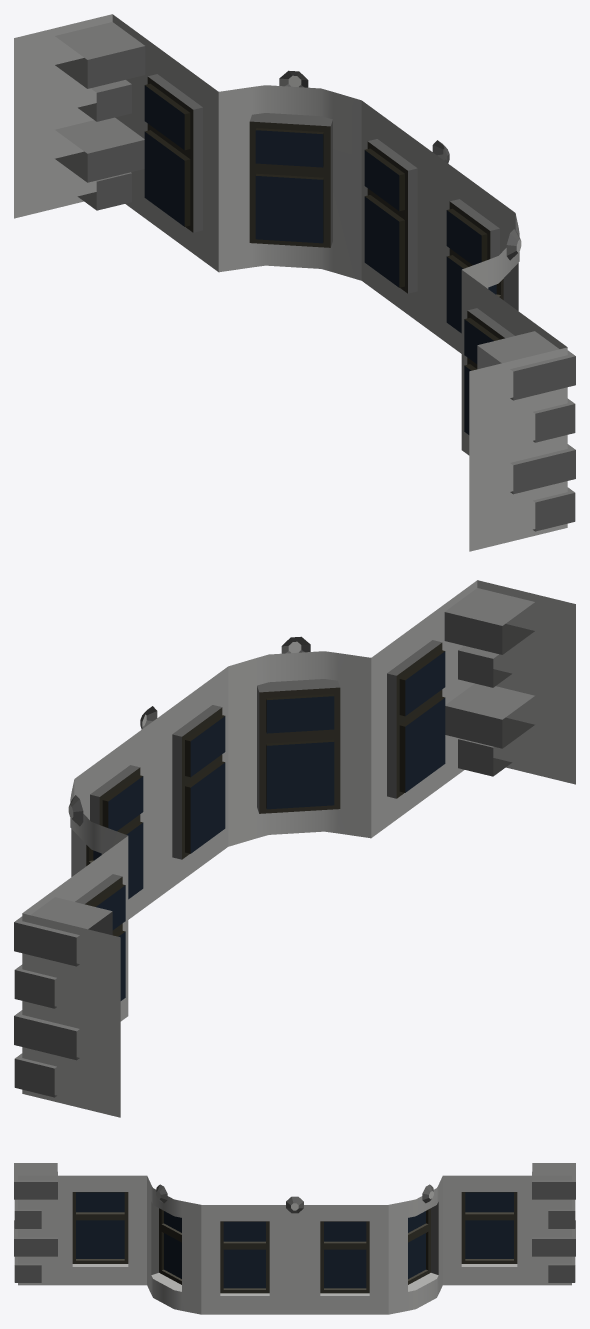
Rendered from white_marble_building_storey.fbx.
3 renders of one model, top to bottom at view 1: azimuth 30°, elevation 25°; view 2: azimuth 150°, elevation 25°; view 3: azimuth 270°, elevation 25°, orthographic. The views are drawn at different scales.
Parts seen in each view (by area): view 1: white_marble_building_storey; view 2: white_marble_building_storey; view 3: white_marble_building_storey.
Part boxes in pixels (box(x1,y1,x2,y2)): white_marble_building_storey: box(14, 14, 575, 551); white_marble_building_storey: box(14, 580, 575, 1117); white_marble_building_storey: box(14, 1163, 575, 1314).
Size of the model in its own units: 416 by 378 by 1623.
